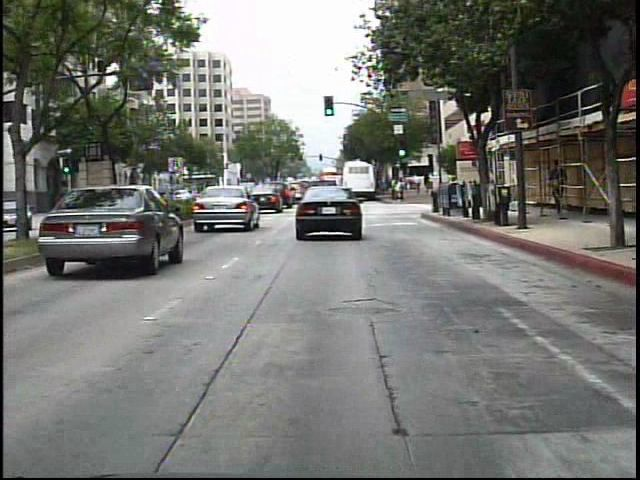person: (540, 155, 571, 222)
